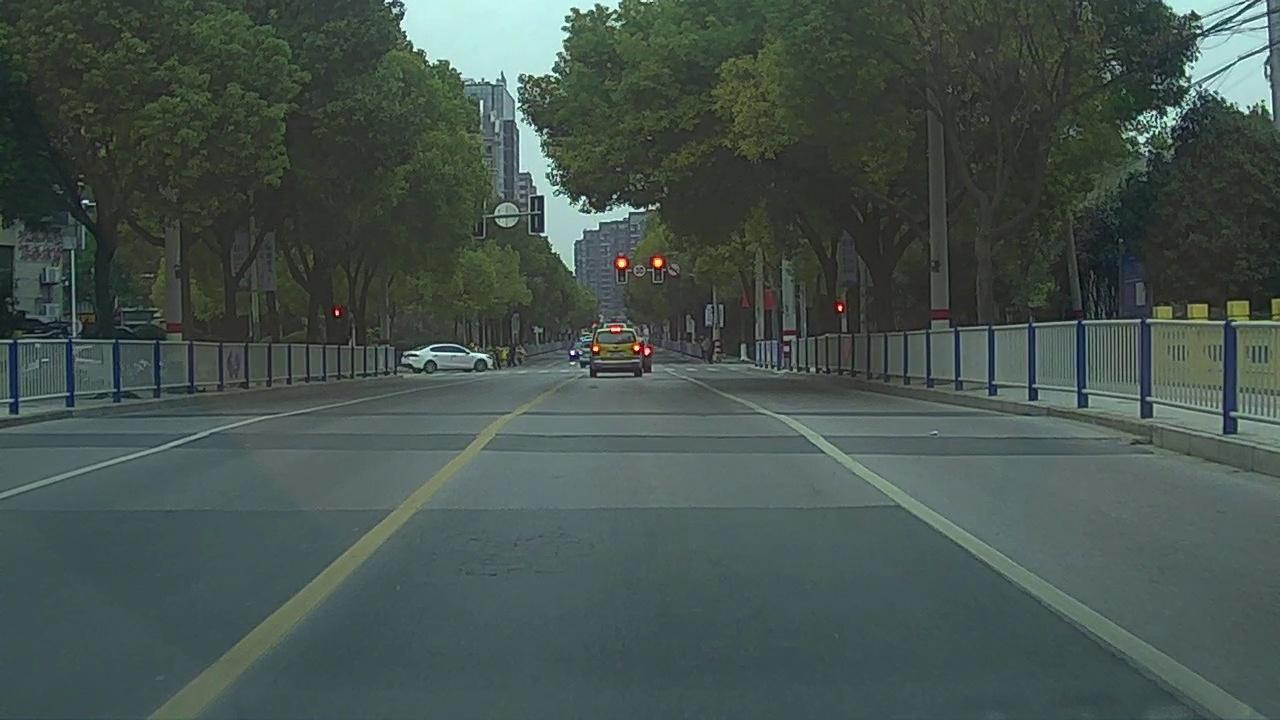traffic_light: (652, 256, 663, 280), (617, 256, 626, 283)
